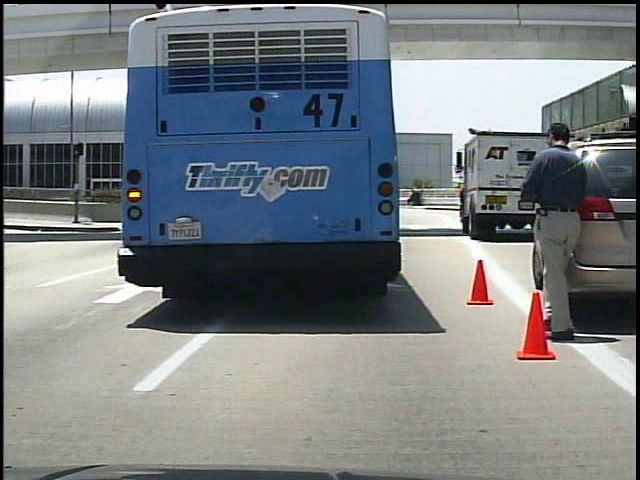person: (514, 116, 609, 346)
